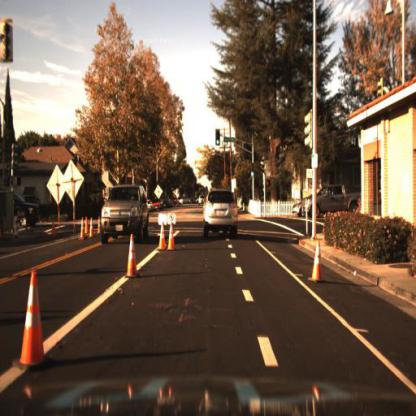car: (98, 181, 150, 247), (202, 184, 241, 241), (305, 182, 366, 216), (10, 190, 43, 226), (293, 197, 305, 220), (151, 199, 165, 217), (197, 190, 209, 208), (146, 196, 154, 216)
trafficLight-Green: (215, 128, 223, 147), (249, 168, 256, 184), (251, 163, 256, 179)
